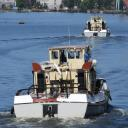tugboat: (10, 46, 114, 122), (82, 16, 112, 40)
